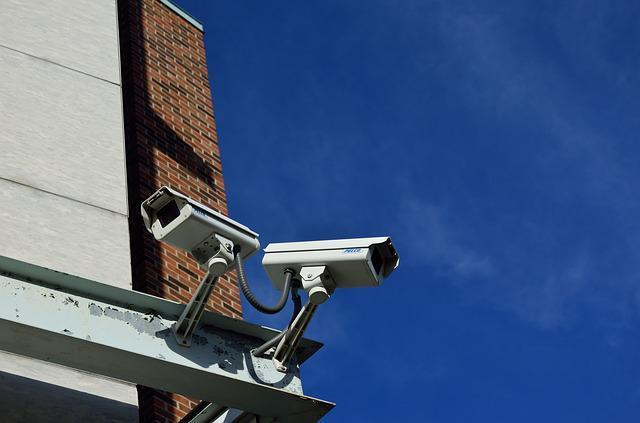------------------------------: (107, 174, 265, 275), (264, 235, 406, 299)
